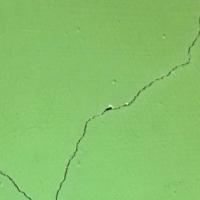crack: (0, 29, 193, 198)
